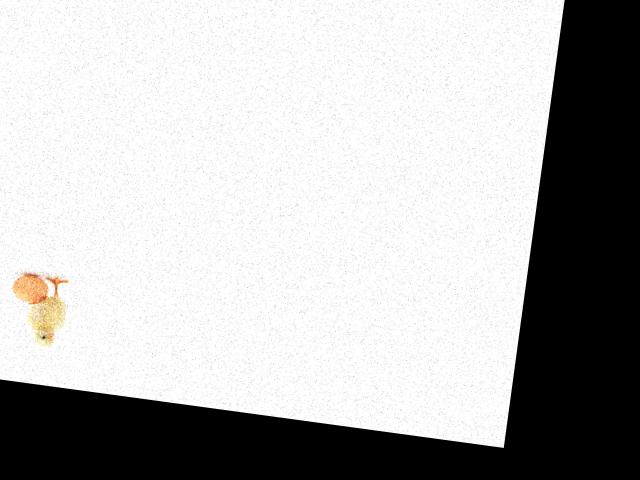egg: (10, 272, 51, 305)
